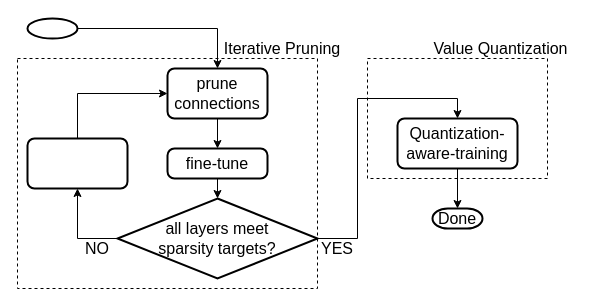
The diagram is 591 pixels wide and 306 high, and some of its shapes have lost their labels. Here are the shapes that lost their labels. From the top down, the box of each, then its label:
(26, 17, 78, 39): Start
(26, 137, 128, 189): adjust layer-wise sparsity
